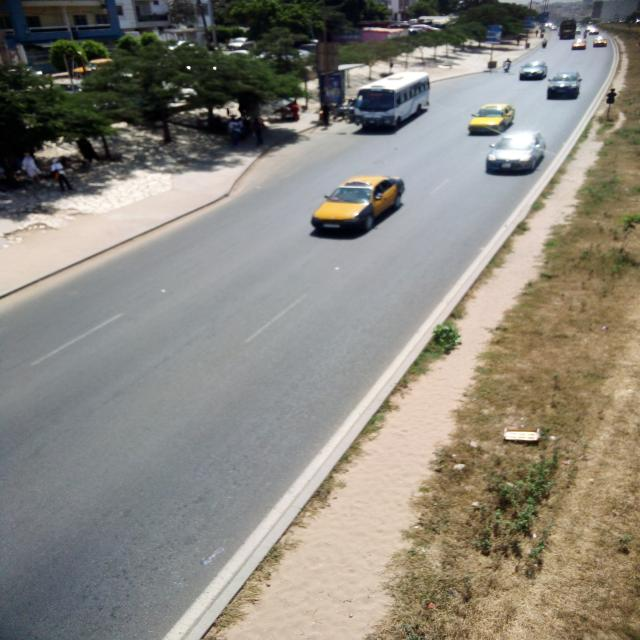bus tata: (354, 72, 431, 130)
particulier: (486, 132, 546, 174), (548, 74, 583, 100), (519, 62, 548, 81)
taxi: (313, 177, 406, 231), (469, 105, 516, 135), (594, 37, 608, 49), (573, 40, 588, 51)
